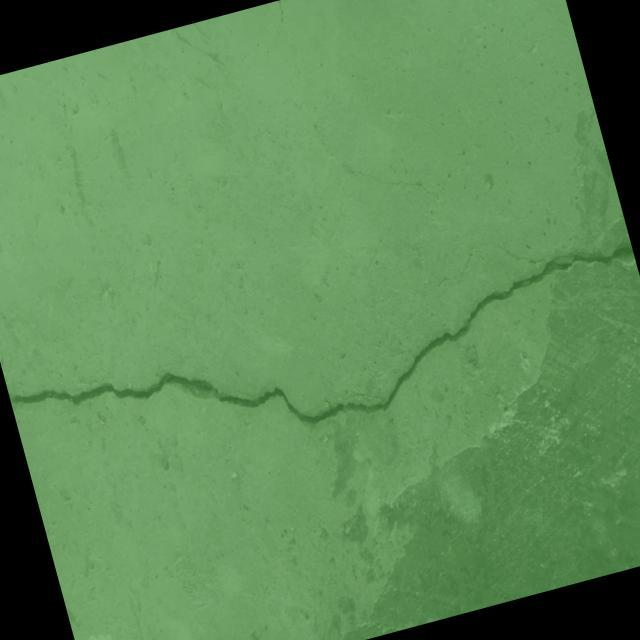crack: (2, 206, 640, 543), (328, 123, 440, 224)
